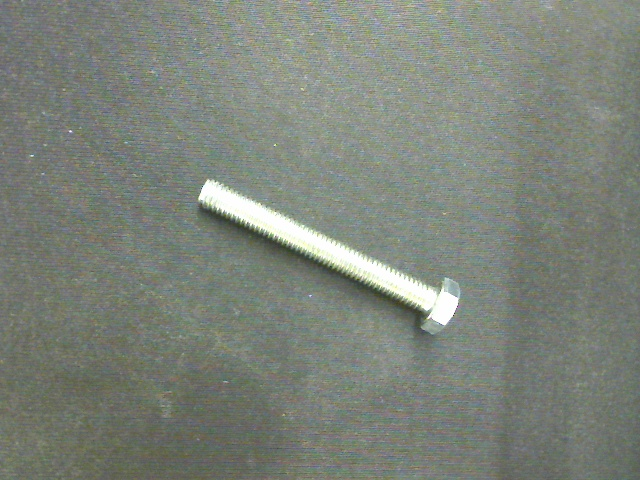Screw: (199, 179, 461, 334)
